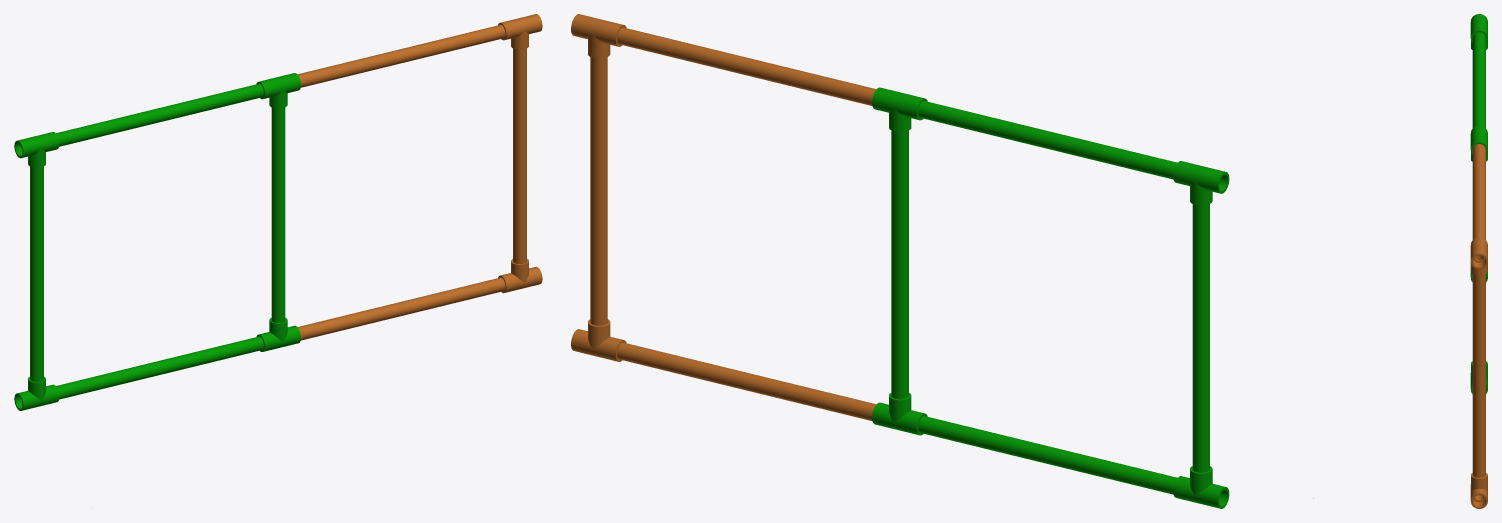
The model's file is trout_reef.dae.
3 views of the same model, side by side, from view 1: azimuth 30°, elevation 25°; view 2: azimuth 150°, elevation 25°; view 3: azimuth 270°, elevation 25° (orthographic). The views are drawn at different scales.
Visible parts, largest first — view 1: EXPLORER_TROUT_FRY___REEF_BALL_DESIGNATED_AREA; view 2: EXPLORER_TROUT_FRY___REEF_BALL_DESIGNATED_AREA; view 3: EXPLORER_TROUT_FRY___REEF_BALL_DESIGNATED_AREA.
Boxes of the visible parts, x1,y1,x2,y2 form: EXPLORER_TROUT_FRY___REEF_BALL_DESIGNATED_AREA: (14,14,542,410); EXPLORER_TROUT_FRY___REEF_BALL_DESIGNATED_AREA: (571,14,1229,508); EXPLORER_TROUT_FRY___REEF_BALL_DESIGNATED_AREA: (1470,14,1487,508).
Size of the model in its own units: 0.9143 by 0.2348 by 0.5297.
